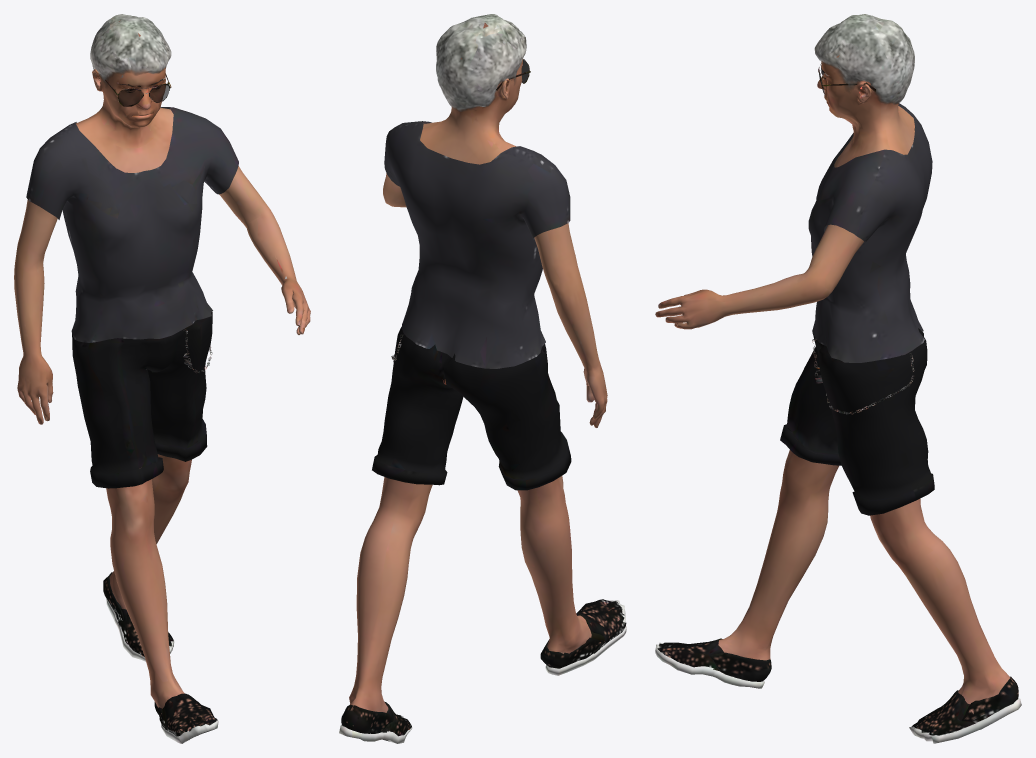
3 renders of one model, left to right at view 1: azimuth 30°, elevation 25°; view 2: azimuth 150°, elevation 25°; view 3: azimuth 270°, elevation 25°, orthographic. The views are drawn at different scales.
Parts seen in each view (by area): view 1: p04813; view 2: p04813; view 3: p04813.
Part boxes in pixels (x1,y1,x2,y2): p04813: [14, 14, 310, 743]; p04813: [339, 14, 626, 743]; p04813: [655, 14, 1021, 743].
Size of the model in its own units: 0.6118 by 1.7 by 0.8184.
1 material, 1 textured.
